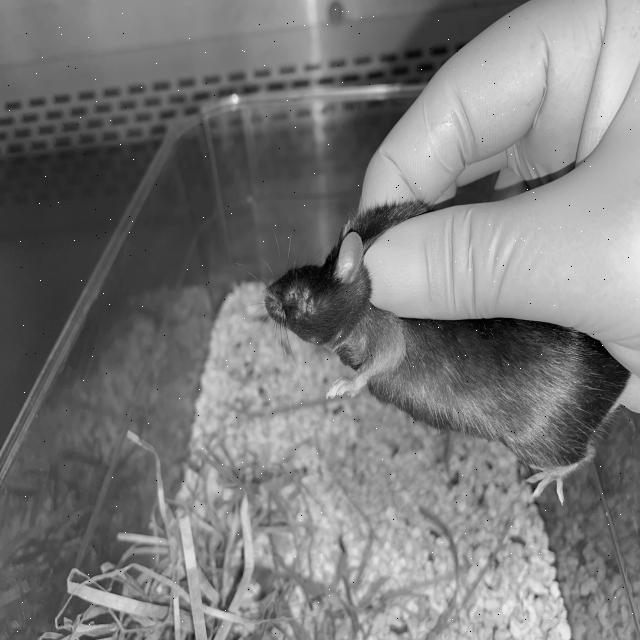Face: (256, 212, 389, 403)
